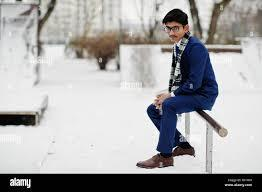Human: (143, 7, 217, 174)
